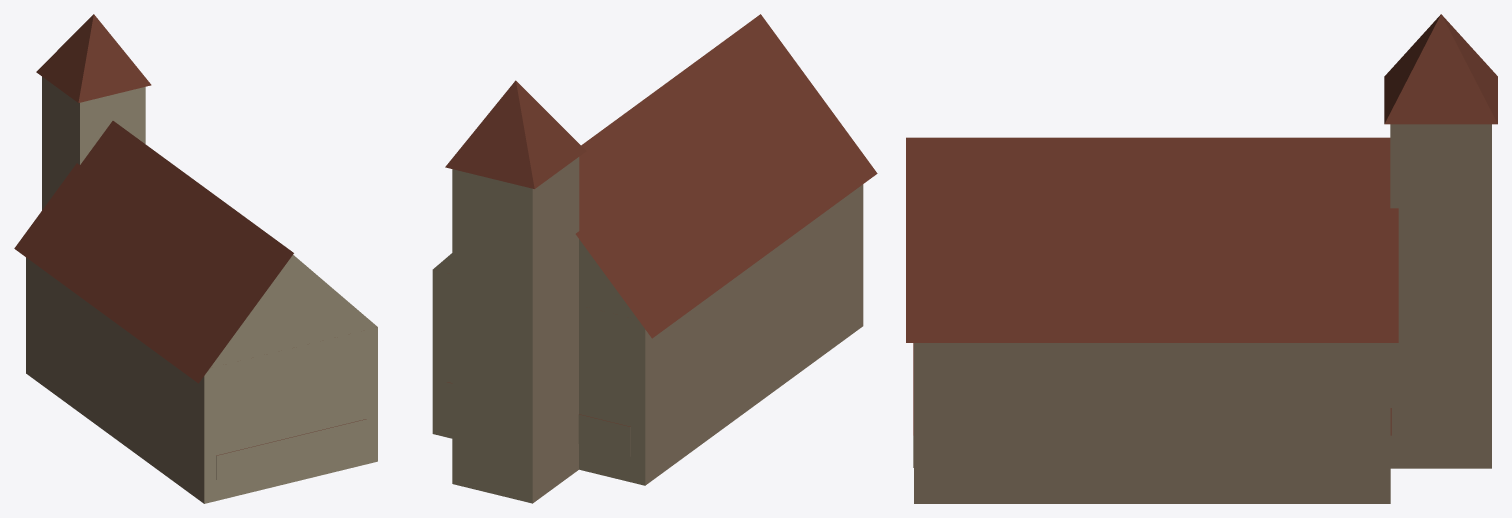
Rendered from village-chapel.far-facades-v3.lod2.glb.
3 views of the same model, side by side, from view 1: azimuth 30°, elevation 25°; view 2: azimuth 150°, elevation 25°; view 3: azimuth 270°, elevation 25° (orthographic). The views are drawn at different scales.
Visible parts, largest first — view 1: village-chapel; view 2: village-chapel; view 3: village-chapel.
Boxes of the visible parts, bbox=[...] form: village-chapel: bbox=[14, 14, 377, 503]; village-chapel: bbox=[432, 14, 877, 503]; village-chapel: bbox=[906, 14, 1497, 503].
Size of the model in its own units: 9.9 by 16.06 by 19.87.
